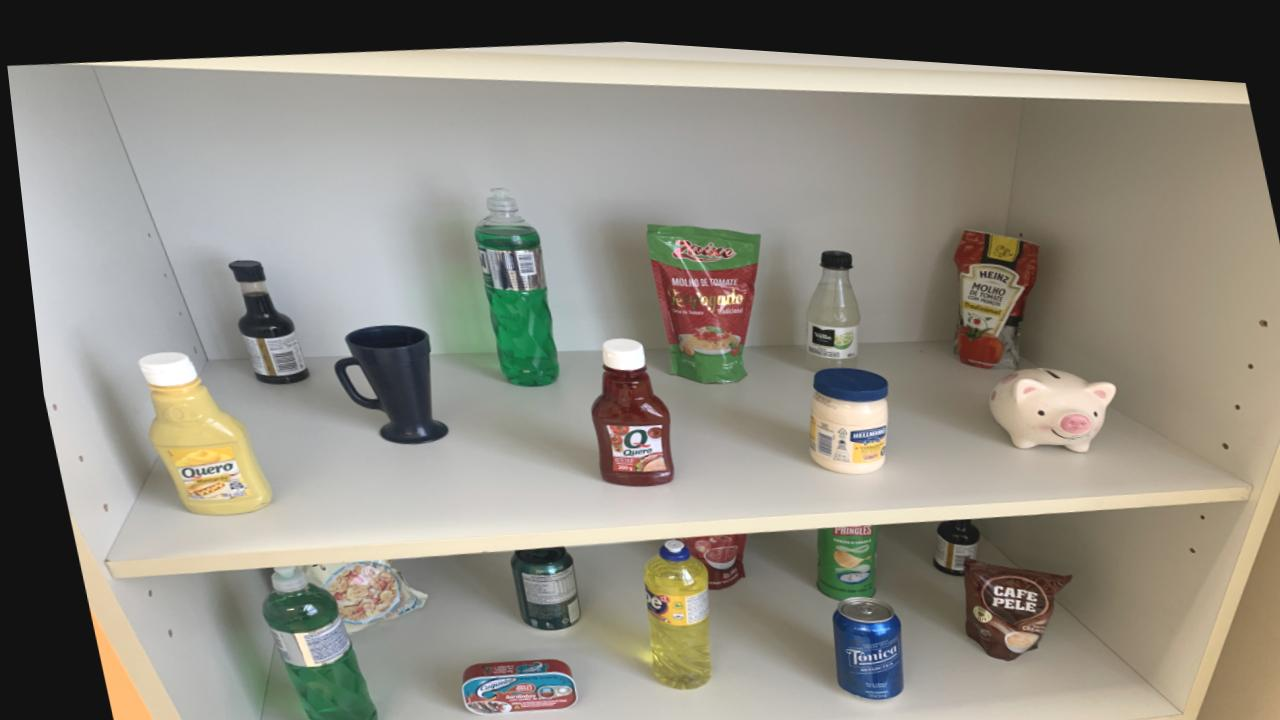Coffee-Pantry_Items: (951, 545, 1060, 647)
Detergent-Cleanup_Items: (249, 562, 362, 720), (470, 181, 552, 379), (631, 530, 698, 680)
English_Sauce-Pantry_Items: (223, 257, 301, 381), (922, 505, 970, 563)
Flakes-Snacks: (291, 555, 414, 627)
Guarana_Can-Drinks: (498, 538, 568, 623)
Ketchup-Pantry_Items: (582, 330, 665, 478)
Mayonnaise-Pantry_Items: (801, 355, 882, 462)
Mustard-Pantry_Items: (130, 350, 262, 512)
Pig_Safe-Miscellaneous: (981, 353, 1109, 437)
Pringles-Snacks: (804, 512, 868, 588)
Soda-Drinks: (799, 239, 854, 360)
Tomato_Sauce-Pantry_Items: (642, 215, 757, 373), (947, 217, 1035, 355), (673, 523, 735, 580)
Tonic-Drinks: (819, 585, 890, 688)
Tuna_Can-Pantry_Items: (446, 652, 563, 709)
